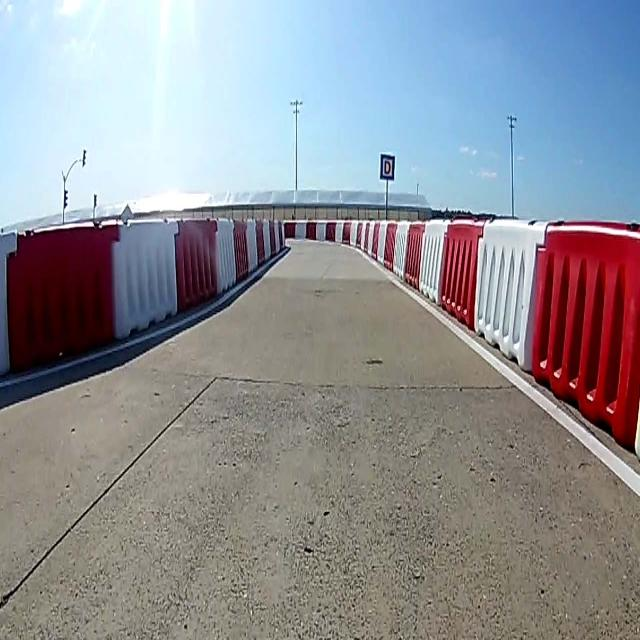durak: (381, 152, 395, 180)
